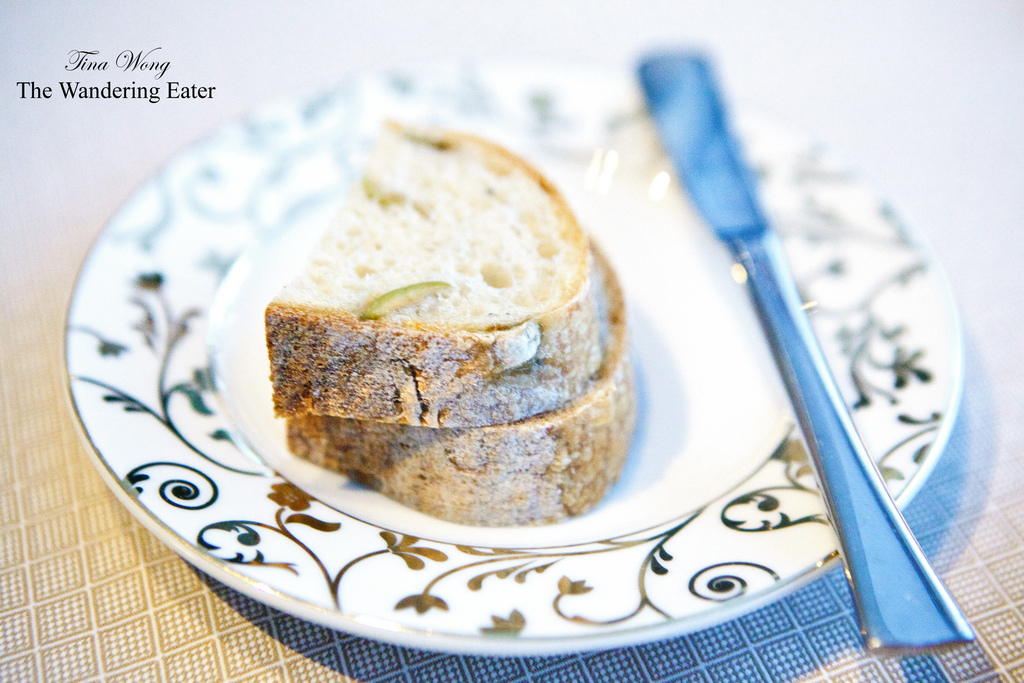slice of bread: (309, 123, 594, 400), (298, 399, 630, 528)
